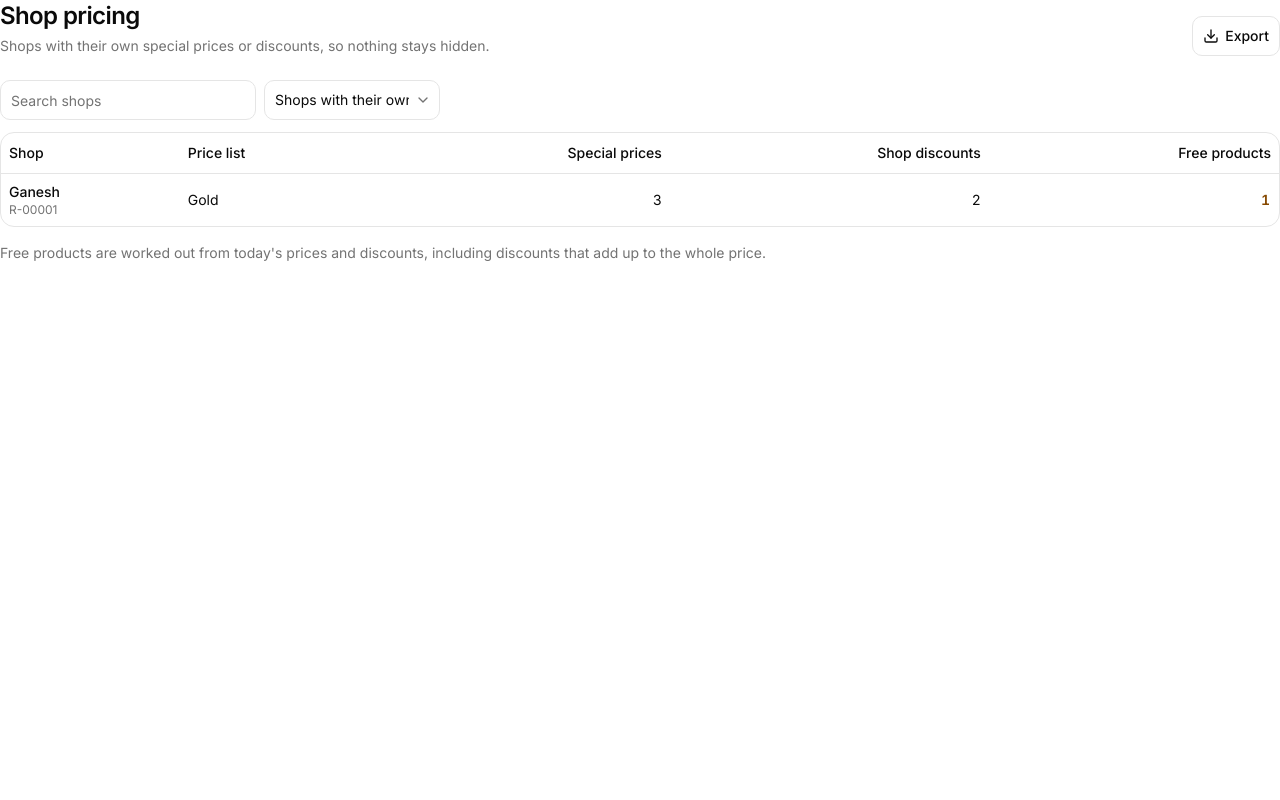
Test case: Shop pricing report › lists shops with their own pricing and shows the products they get free
Expected: the text "Gold" is shown, x1=180 y1=173 x2=376 y2=226
Step 1. Click the button "1" → (1265, 200), box x1=1260 y1=188 x2=1271 y2=210
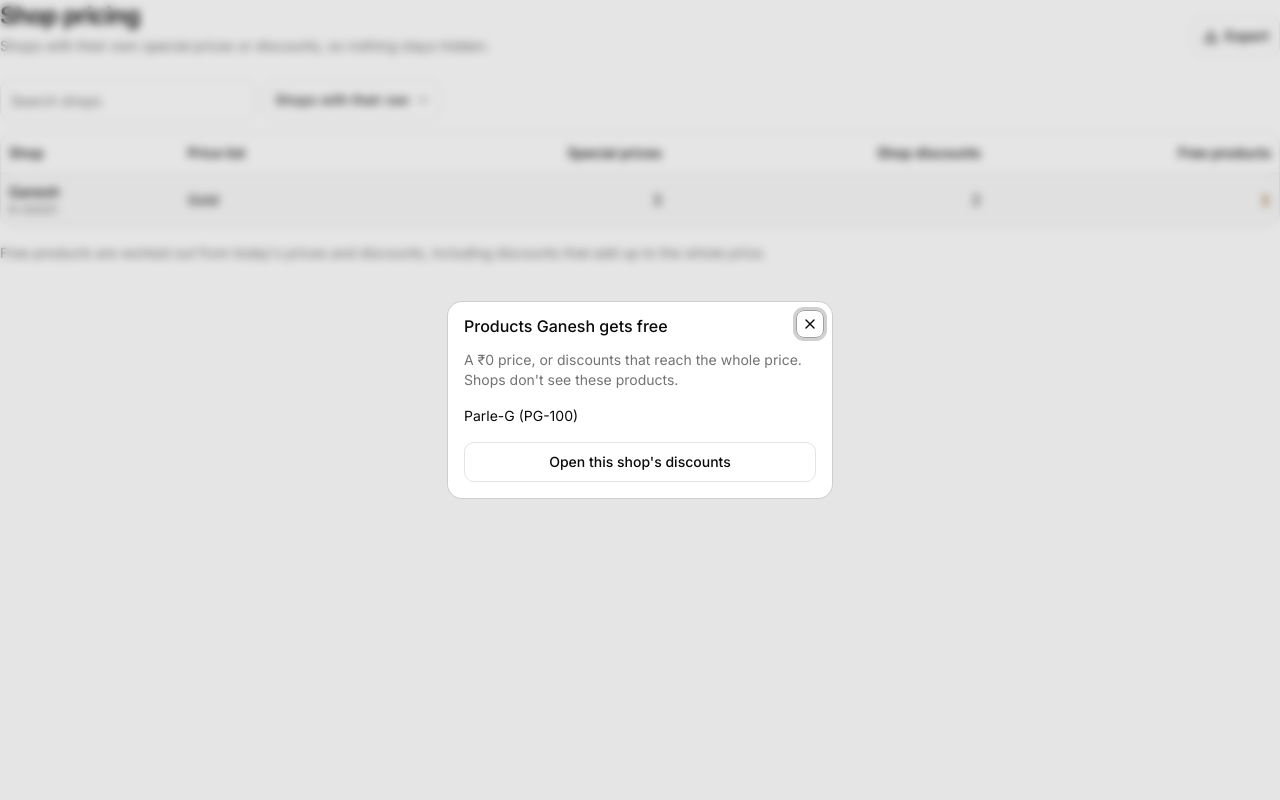
Expected: the list item "Parle-G (PG-100)" is shown, x1=464 y1=407 x2=578 y2=424
